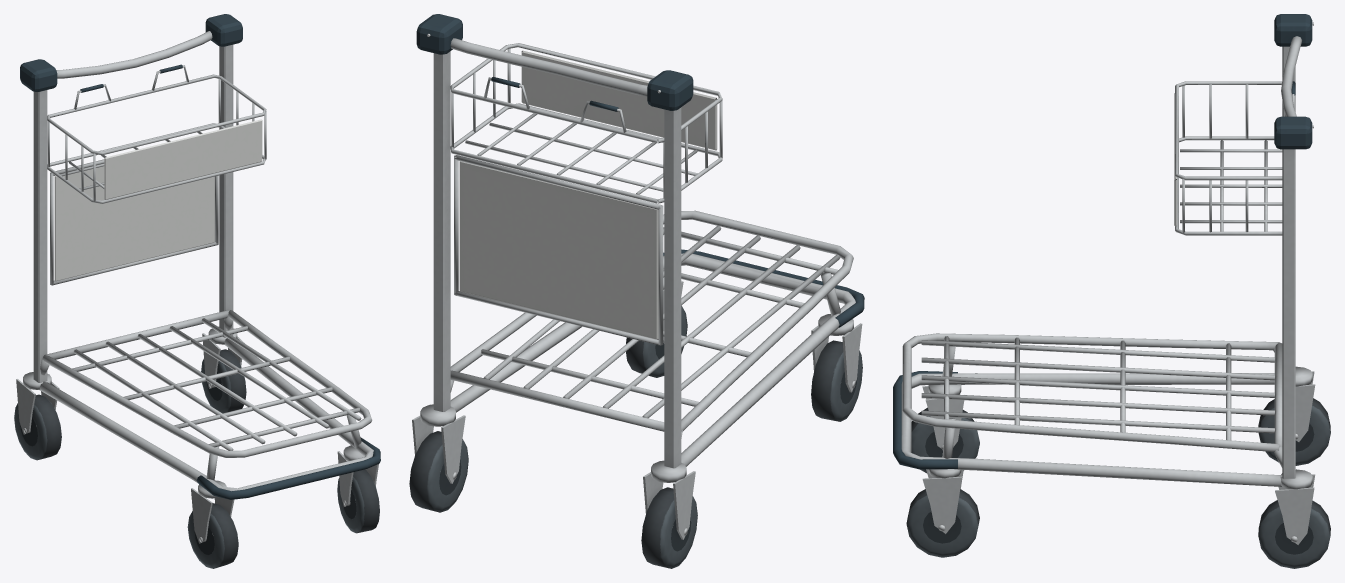
File: airport_trolley.glb
3 views of the same model, side by side, from view 1: azimuth 30°, elevation 25°; view 2: azimuth 150°, elevation 25°; view 3: azimuth 270°, elevation 25° (orthographic). The views are drawn at different scales.
Parts seen in each view (by area): view 1: AirportTrolley_Game; view 2: AirportTrolley_Game; view 3: AirportTrolley_Game.
Boxes of the visible parts, box(x1,y1,x2,y2) form: AirportTrolley_Game: box(14, 14, 380, 568); AirportTrolley_Game: box(409, 14, 864, 568); AirportTrolley_Game: box(893, 14, 1330, 568).
Size of the model in its own units: 0.6304 by 1.11 by 0.9945.
1 material, 1 textured.
